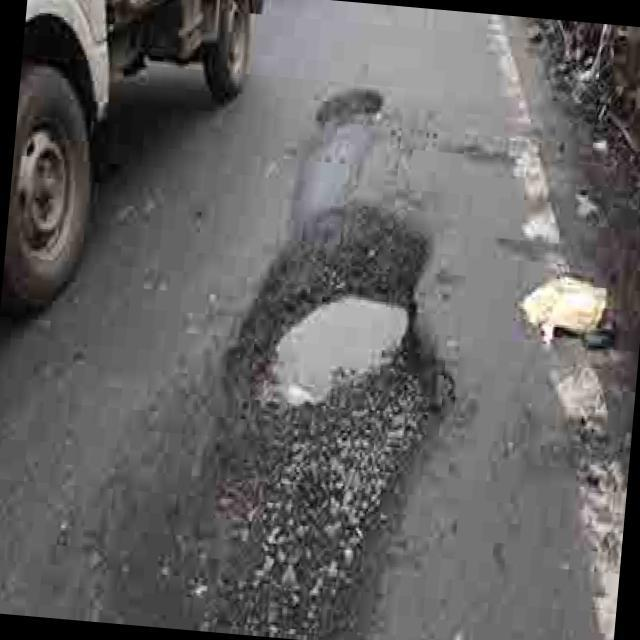Pothole: (196, 228, 468, 640), (310, 77, 402, 160)
